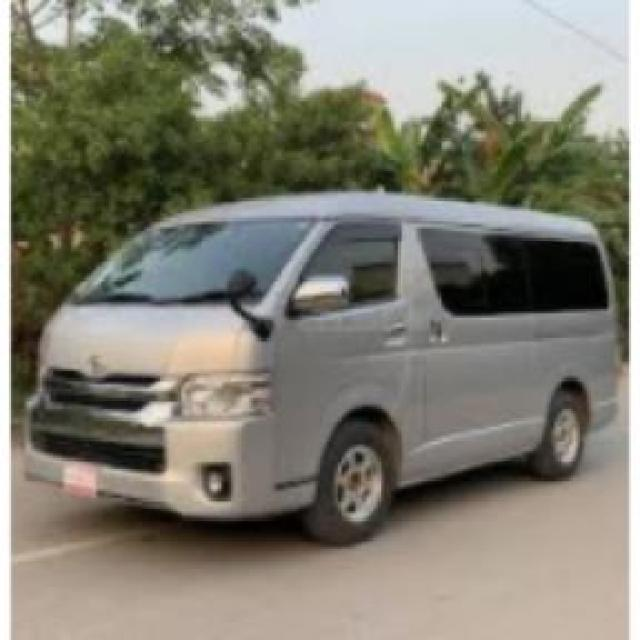Van: (23, 196, 618, 544)
